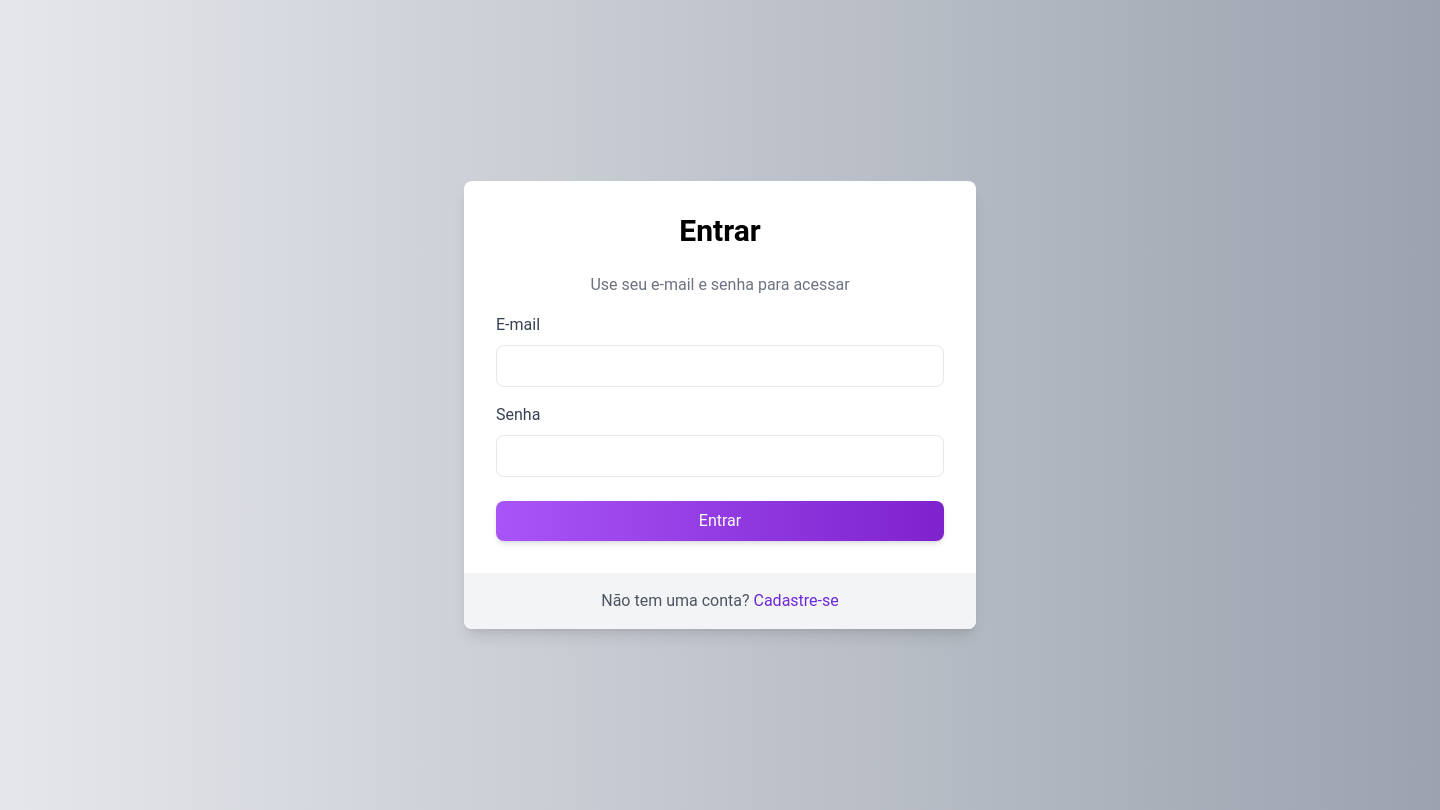
Test: Login Component › shows an alert with error message on failed login
Type "test@example.com" into the field labelled "E-mail" at (720, 366), box 496,345 -> 944,387
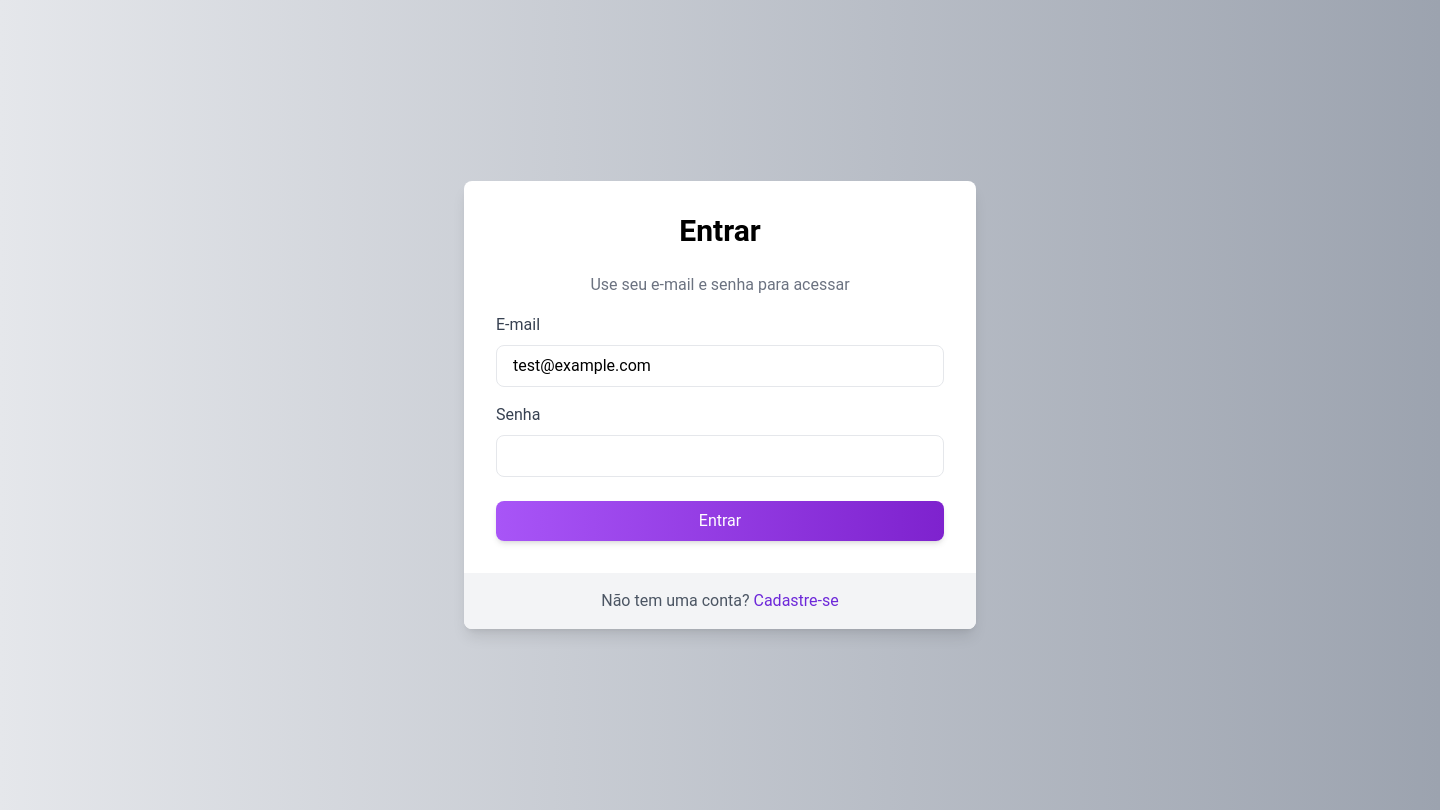
Type "wrongpassword" into the password field labelled "Senha" at (720, 456), box 496,435 -> 944,477
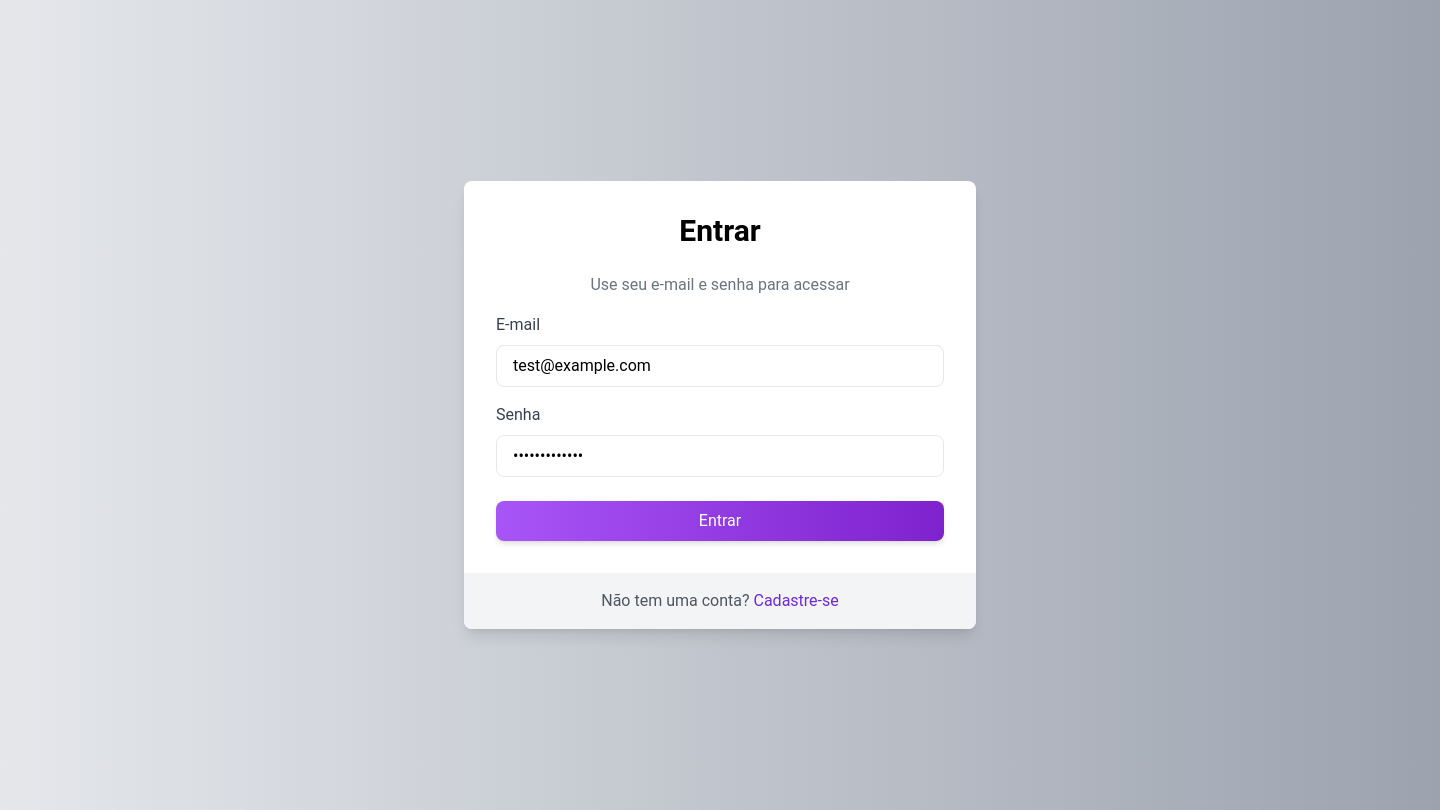
Click the button "Entrar" at (720, 521), box 496,501 -> 944,541
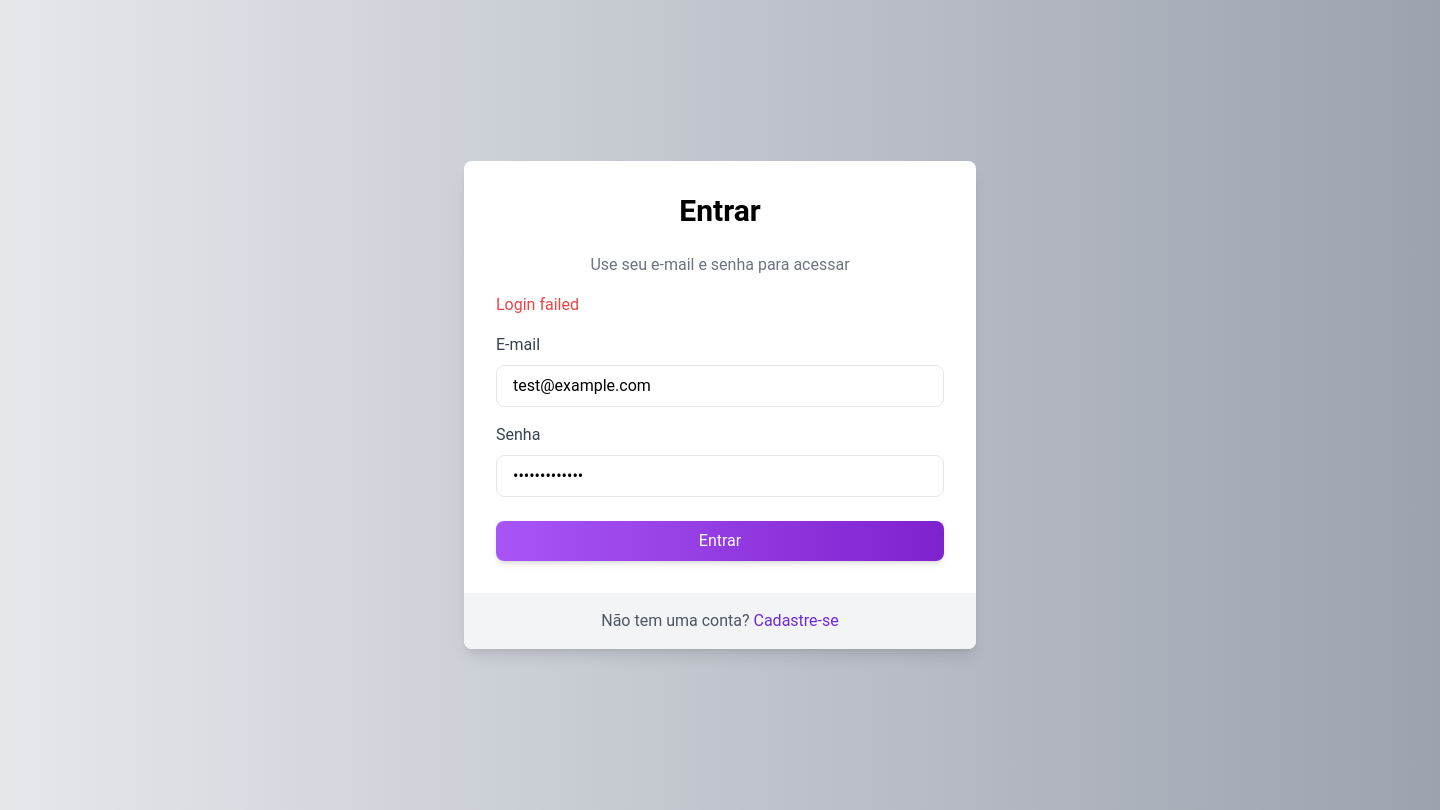
Expected: the message reads "Login failed", 496,295 -> 579,314
